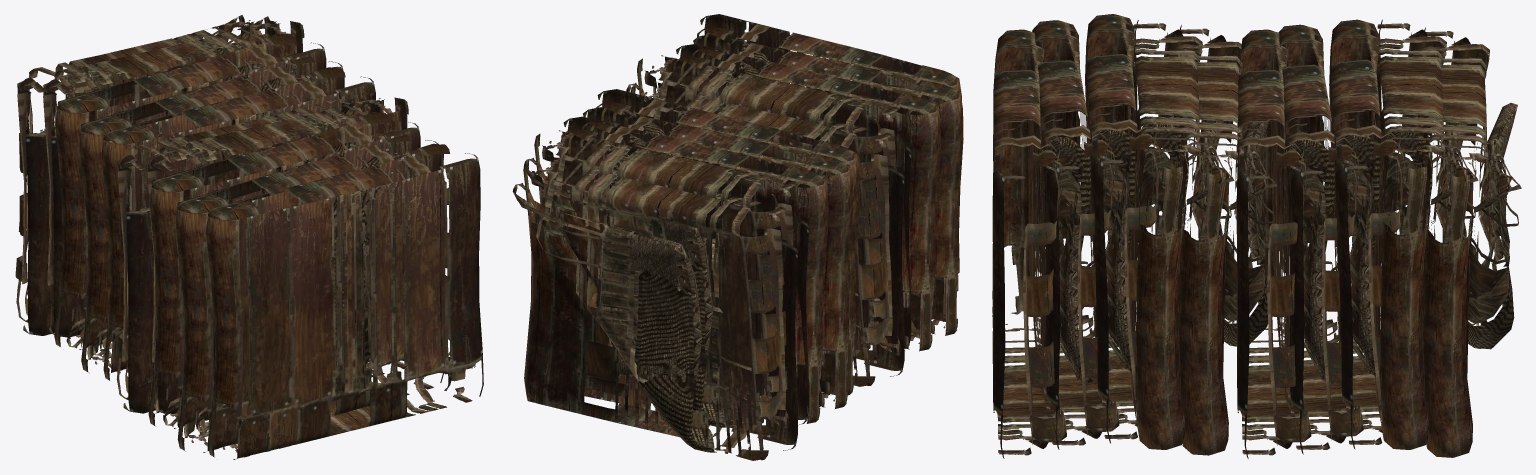
The picture shows the model from 3 angles, left to right: view 1: azimuth 30°, elevation 25°; view 2: azimuth 150°, elevation 25°; view 3: azimuth 270°, elevation 25°; orthographic projection. The views are drawn at different scales.
Parts seen in each view (by area): view 1: SM_Dec_Garou_Crate_02_LOD0; view 2: SM_Dec_Garou_Crate_02_LOD0; view 3: SM_Dec_Garou_Crate_02_LOD0.
Part boxes in pixels (<box>): SM_Dec_Garou_Crate_02_LOD0: <box>15,15,483,459</box>; SM_Dec_Garou_Crate_02_LOD0: <box>512,14,963,460</box>; SM_Dec_Garou_Crate_02_LOD0: <box>992,14,1521,458</box>.
Bounding box in the file's own units: 0.5936 × 0.5082 × 0.8033.
